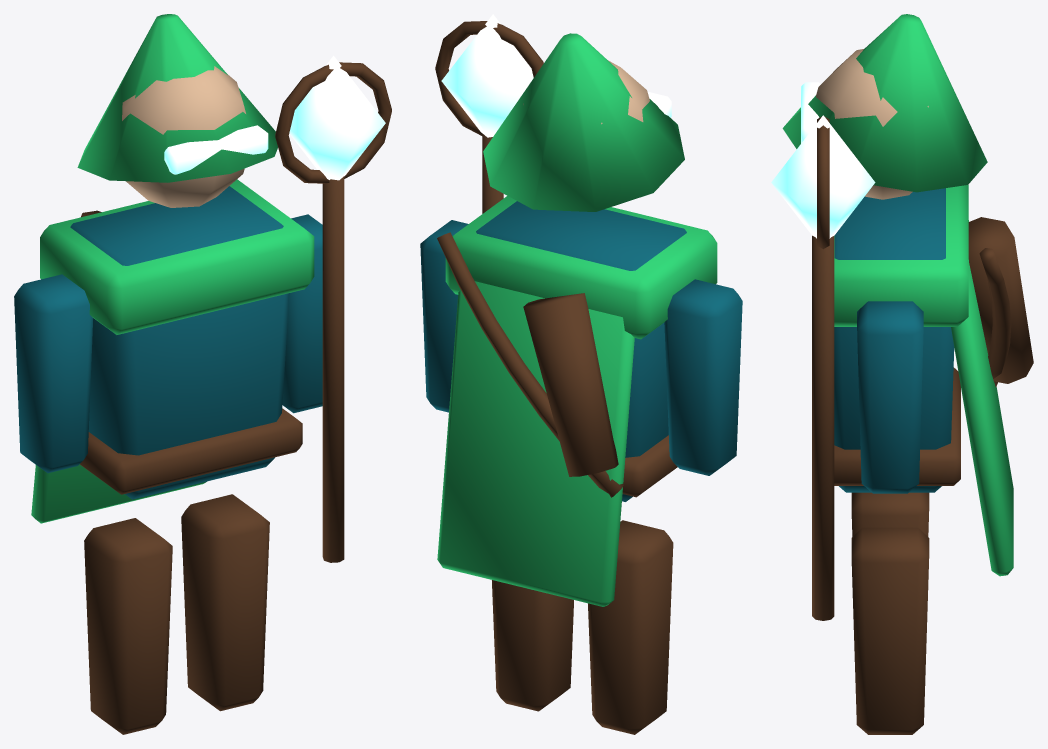
The model's file is npc_survivor.glb.
The picture shows the model from 3 angles, left to right: view 1: azimuth 30°, elevation 25°; view 2: azimuth 150°, elevation 25°; view 3: azimuth 270°, elevation 25°; orthographic projection.
Visible parts, largest first — view 1: Body, Head, Weapon, LeftLeg, RightLeg, LeftArm, RightArm, Tail; view 2: Tail, Body, Head, LeftLeg, LeftArm, Weapon, RightLeg, RightArm; view 3: Body, Head, Tail, Weapon, RightLeg, RightArm, LeftLeg.
Part boxes in pixels (x1=…): Body: x1=40, y1=179, x2=314, y2=499; Head: x1=77, y1=14, x2=277, y2=207; Weapon: x1=275, y1=55, x2=391, y2=562; LeftLeg: x1=84, y1=518, x2=172, y2=734; RightLeg: x1=181, y1=494, x2=269, y2=711; LeftArm: x1=14, y1=274, x2=93, y2=473; RightArm: x1=282, y1=214, x2=322, y2=413; Tail: x1=31, y1=210, x2=206, y2=523; Tail: x1=437, y1=232, x2=634, y2=606; Body: x1=445, y1=196, x2=717, y2=501; Head: x1=483, y1=33, x2=684, y2=211; LeftLeg: x1=588, y1=520, x2=673, y2=734; LeftArm: x1=664, y1=279, x2=742, y2=475; Weapon: x1=435, y1=14, x2=543, y2=213; RightLeg: x1=492, y1=580, x2=573, y2=711; RightArm: x1=420, y1=220, x2=468, y2=412; Body: x1=834, y1=185, x2=968, y2=492; Head: x1=782, y1=14, x2=987, y2=199; Tail: x1=951, y1=217, x2=1033, y2=576; Weapon: x1=771, y1=115, x2=875, y2=620; RightLeg: x1=851, y1=527, x2=929, y2=734; RightArm: x1=857, y1=301, x2=923, y2=493; LeftLeg: x1=851, y1=492, x2=929, y2=536.
Bounding box in the file's own units: 1.03 × 2.03 × 0.7051.
